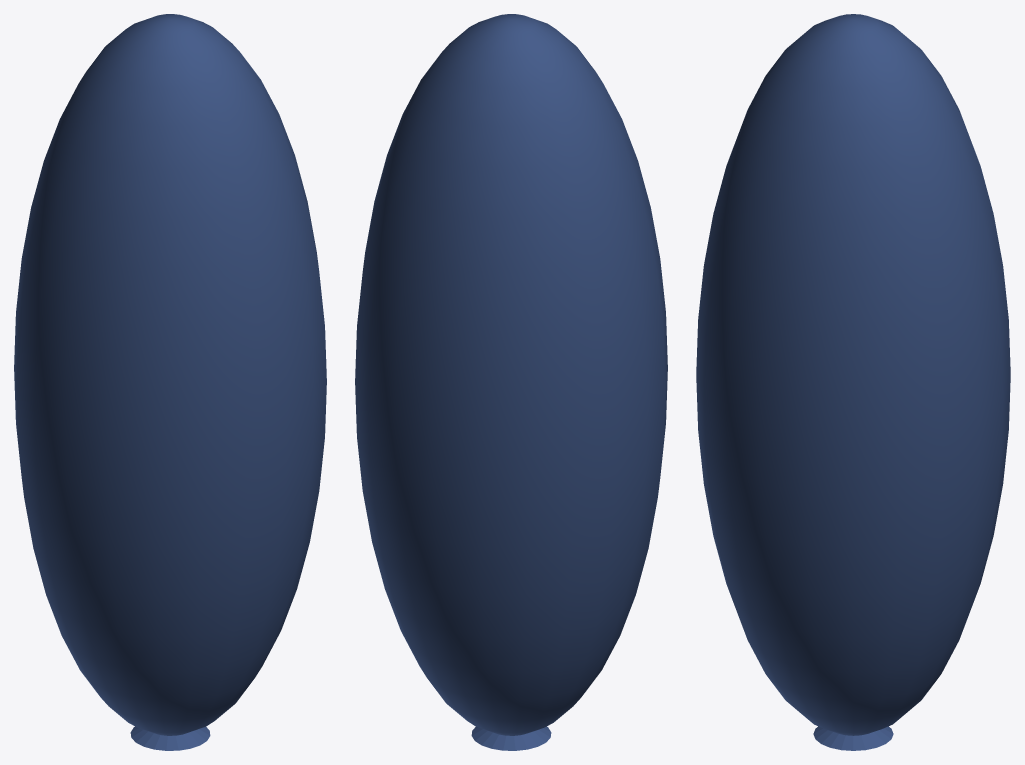
File: Balloon3.fbx
3 views of the same model, side by side, from view 1: azimuth 30°, elevation 25°; view 2: azimuth 150°, elevation 25°; view 3: azimuth 270°, elevation 25° (orthographic).
Parts seen in each view (by area): view 1: pSphere3; view 2: pSphere3; view 3: pSphere3.
Boxes of the visible parts, x1,y1,x2,y2 form: pSphere3: (14, 14, 326, 750); pSphere3: (355, 14, 667, 750); pSphere3: (696, 14, 1010, 750).
Bounding box in the file's own units: 0.02 × 0.0501 × 0.02.
